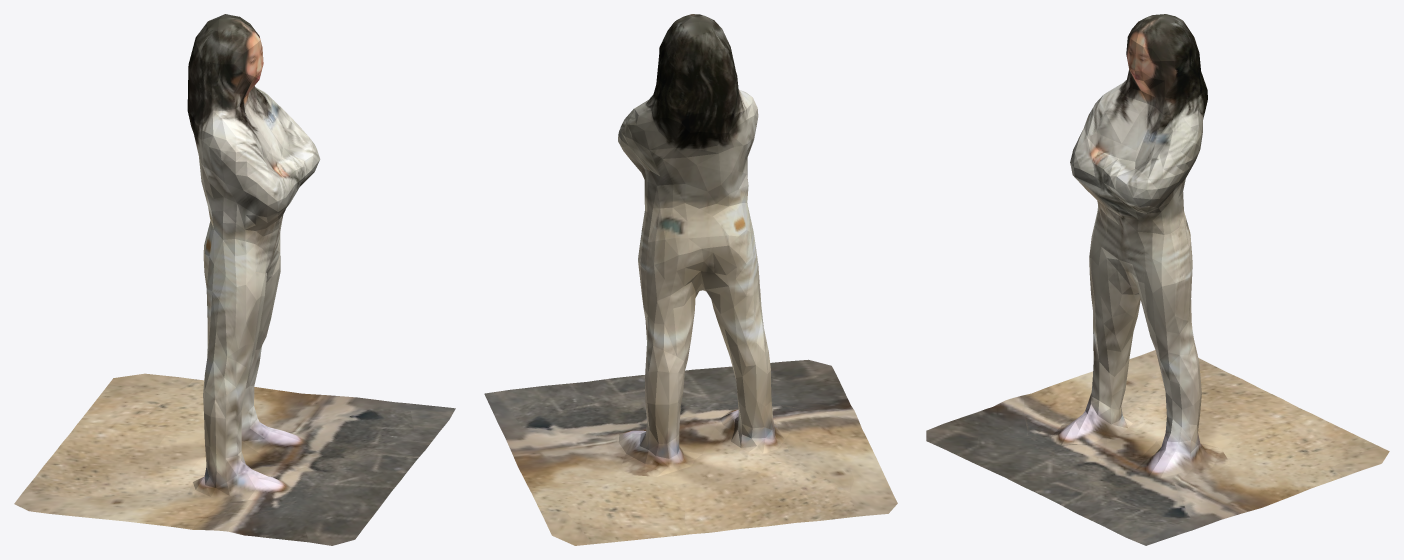
The model's file is mbo_friends_jordan.glb.
3 views of the same model, side by side, from view 1: azimuth 30°, elevation 25°; view 2: azimuth 150°, elevation 25°; view 3: azimuth 270°, elevation 25° (orthographic). The views are drawn at different scales.
Bounding box in the file's own units: 1.63 × 1.64 × 1.59.
Materials: 1 (1 with a texture image).
